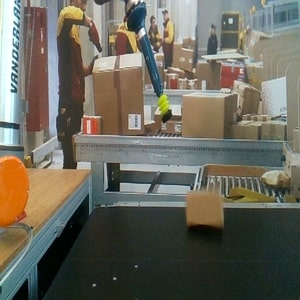box: (182, 188, 228, 229)
